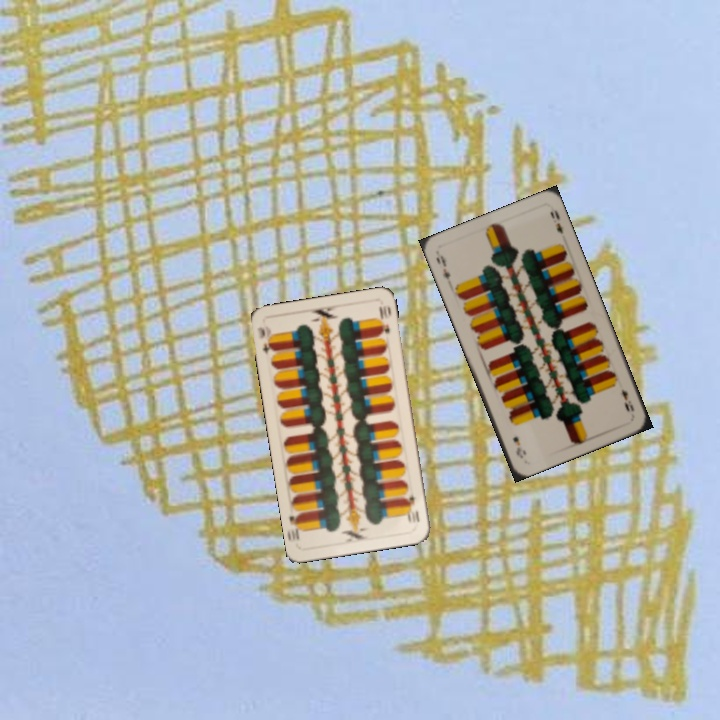E10: (254, 323, 277, 358), (403, 492, 422, 525)
E9: (432, 251, 453, 282), (617, 385, 637, 414)
